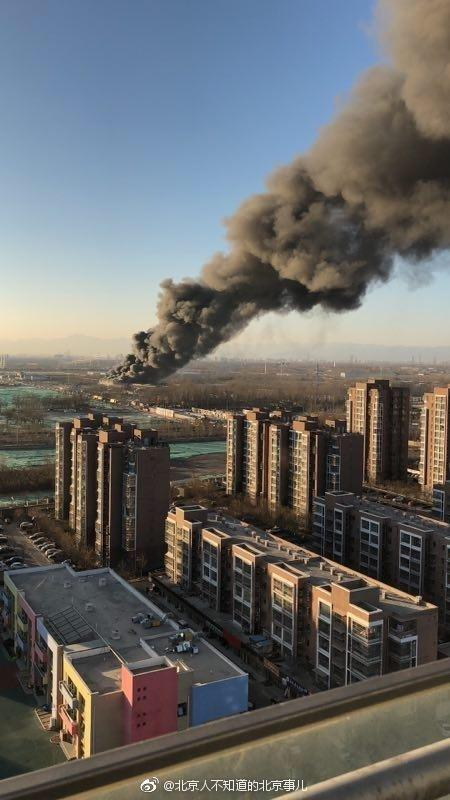smoke: (114, 1, 450, 377)
